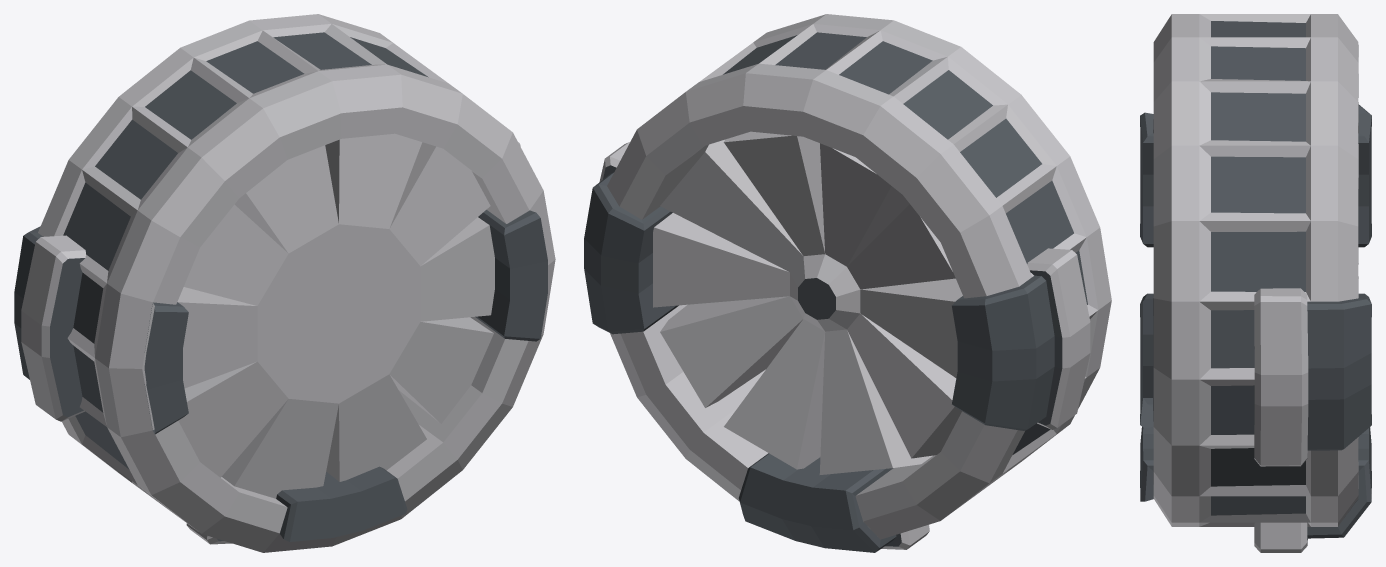
Rendered from Dropship_02_Hover_Blade.fbx.
The picture shows the model from 3 angles, left to right: view 1: azimuth 30°, elevation 25°; view 2: azimuth 150°, elevation 25°; view 3: azimuth 270°, elevation 25°; orthographic projection. The views are drawn at different scales.
Visible parts, largest first — view 1: Dropship_02_Hover_Blade; view 2: Dropship_02_Hover_Blade; view 3: Dropship_02_Hover_Blade.
Part boxes in pixels (x1=…): Dropship_02_Hover_Blade: x1=14, y1=14, x2=555, y2=552; Dropship_02_Hover_Blade: x1=584, y1=14, x2=1111, y2=552; Dropship_02_Hover_Blade: x1=1140, y1=14, x2=1371, y2=552.
Bounding box in the file's own units: 483 × 459 × 197.
Materials: 1 (1 with a texture image).
